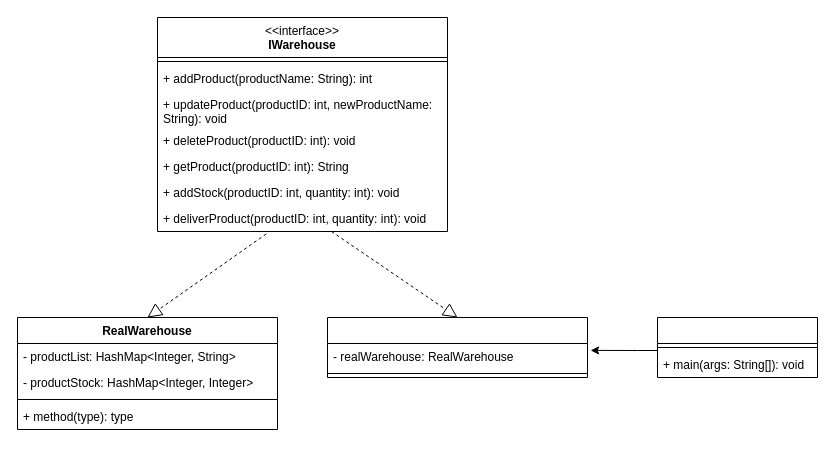
This 835x450 diagram has some shape labels left out. Each missing label, with the box of its shape:
ProxyWarehouse: (326, 316, 588, 378)
RetailStore: (656, 316, 818, 378)
